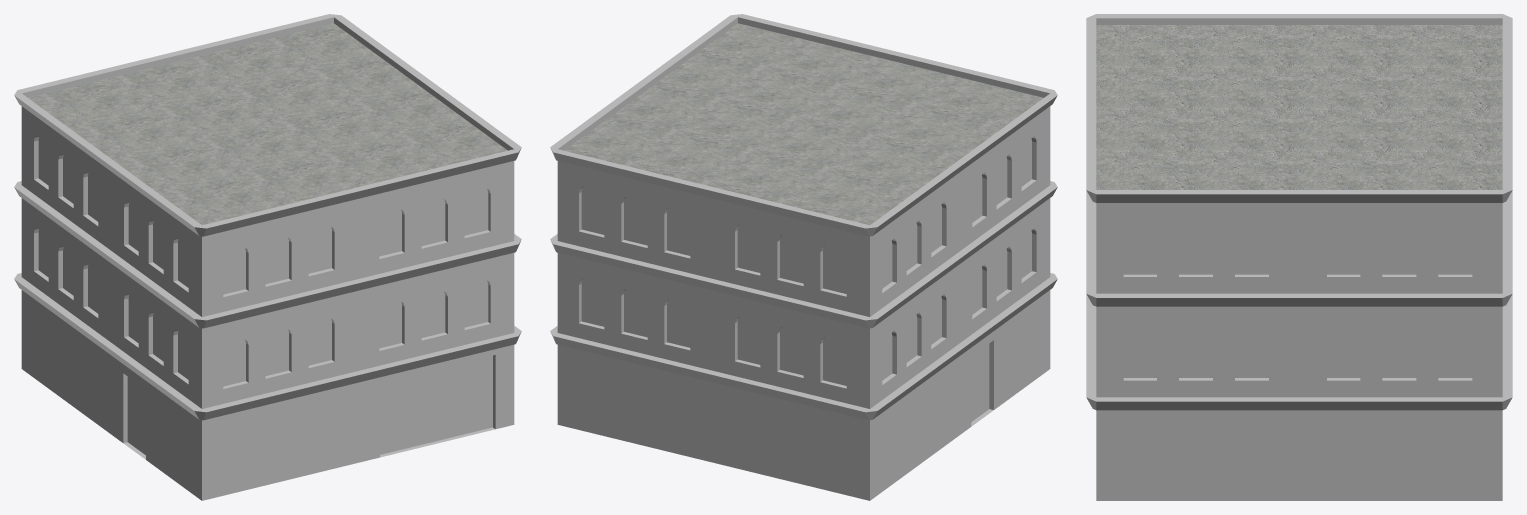
File: RV_Building_Type_B_01.fbx
3 renders of one model, left to right at view 1: azimuth 30°, elevation 25°; view 2: azimuth 150°, elevation 25°; view 3: azimuth 270°, elevation 25°, orthographic. The views are drawn at different scales.
Parts seen in each view (by area): view 1: RV_Building_Type_B_01; view 2: RV_Building_Type_B_01; view 3: RV_Building_Type_B_01.
Part boxes in pixels (left/top/right/bottom): RV_Building_Type_B_01: left=14, top=14, right=521, bottom=500; RV_Building_Type_B_01: left=550, top=14, right=1057, bottom=500; RV_Building_Type_B_01: left=1086, top=14, right=1512, bottom=500.
Bounding box in the file's own units: 1074 × 864 × 1074.
